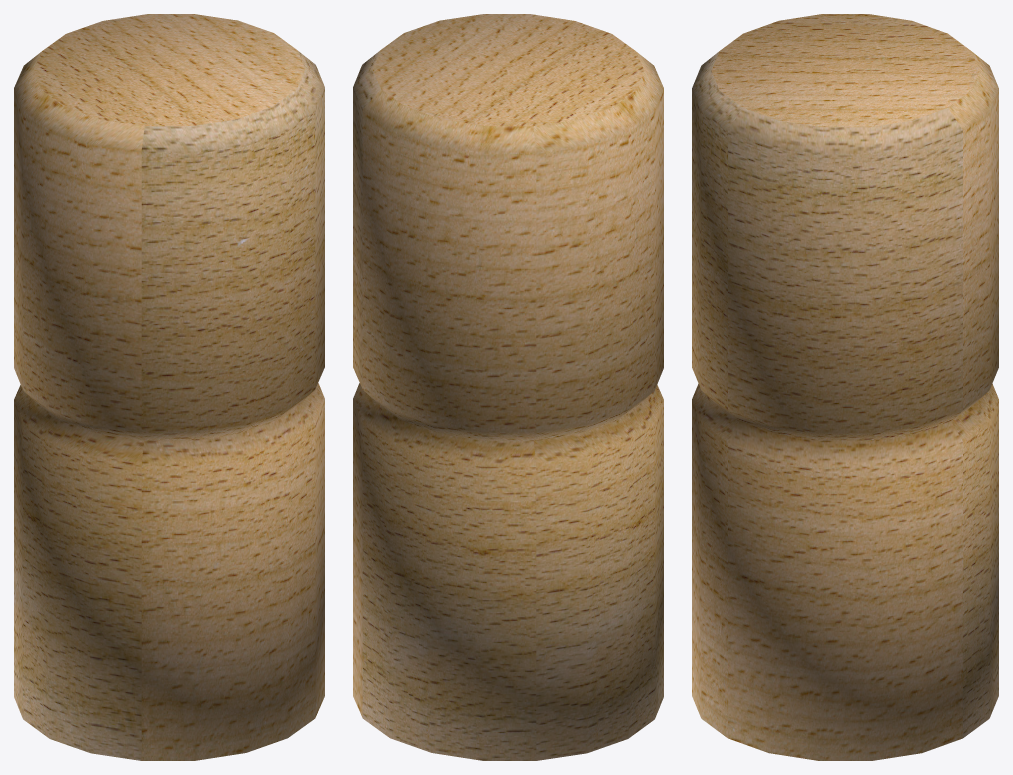
Rendered from Koma_C_L_C1.fbx.
3 views of the same model, side by side, from view 1: azimuth 30°, elevation 25°; view 2: azimuth 150°, elevation 25°; view 3: azimuth 270°, elevation 25° (orthographic).
Parts seen in each view (by area): view 1: Koma_C_L_C1; view 2: Koma_C_L_C1; view 3: Koma_C_L_C1.
Part boxes in pixels (left/top/right/bottom): Koma_C_L_C1: left=14, top=14, right=324, bottom=760; Koma_C_L_C1: left=353, top=14, right=663, bottom=760; Koma_C_L_C1: left=692, top=14, right=998, bottom=760.
Size of the model in its own units: 1.6 by 3.6 by 1.6.
1 material, 1 textured.
